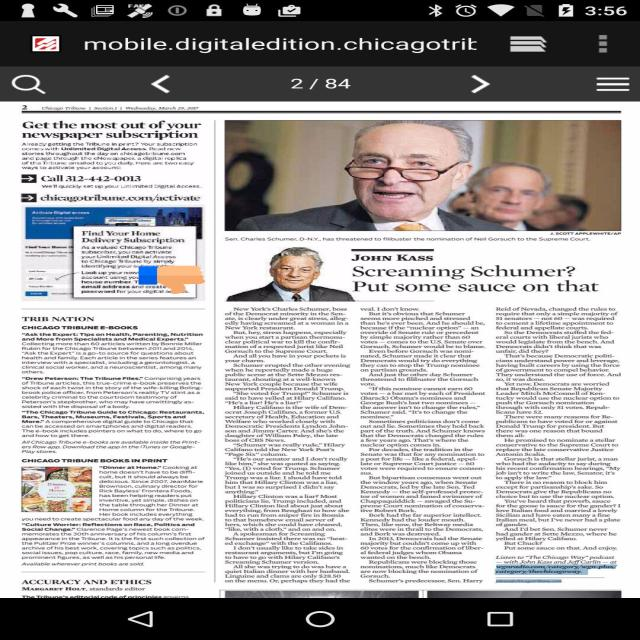obstruction: (139, 265, 205, 295)
